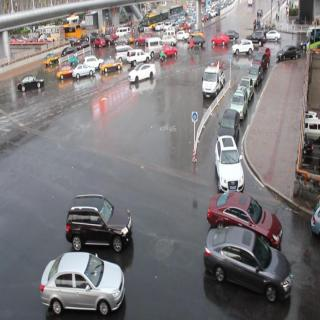Car: (36, 246, 148, 318), (200, 222, 288, 305), (205, 189, 286, 241), (68, 183, 128, 251), (213, 134, 248, 191), (121, 59, 164, 100), (202, 27, 246, 55), (18, 70, 49, 102), (154, 44, 192, 70), (204, 64, 221, 102)
